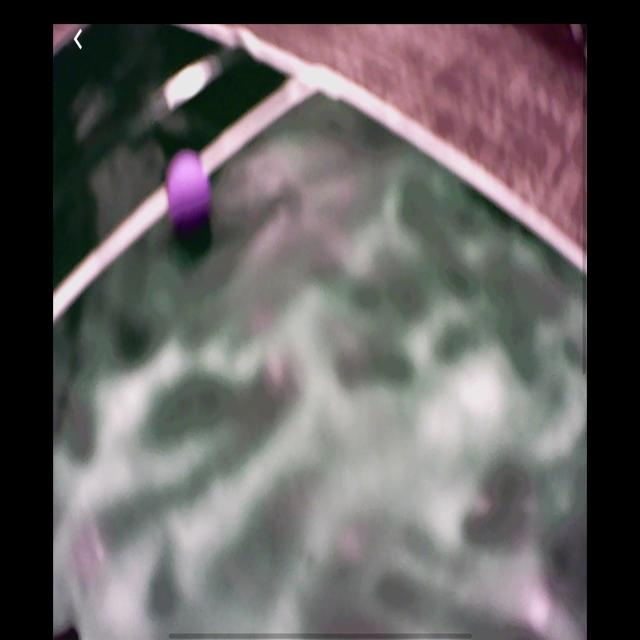ball: (164, 147, 212, 235)
